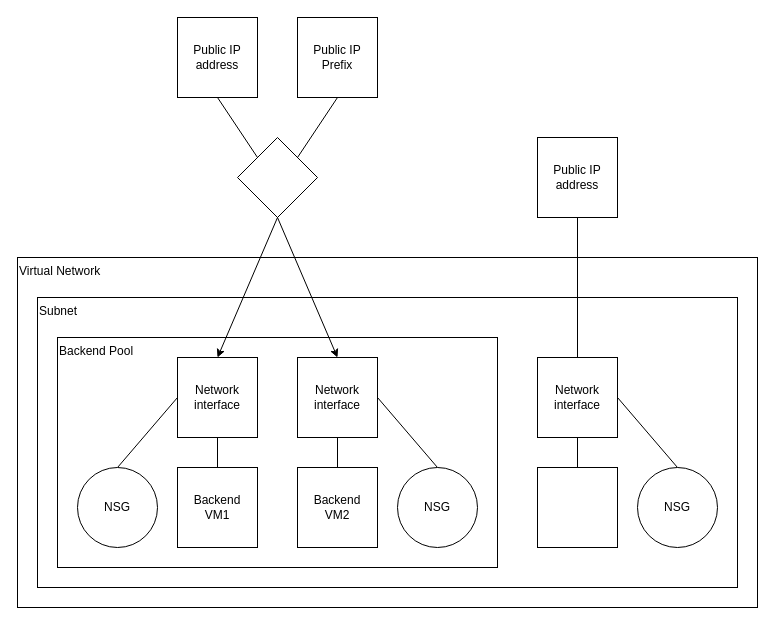
Image size: 775x625. Some labels were removed from this diagram. Here are the shapes that lost their labels. From the top down, the centre of each, then its label:
At [277,177]: "Public Standard LB".
At [577,507]: "Jumpbox VM".
